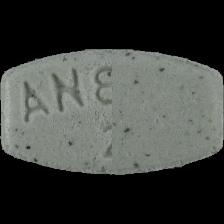65162-896: (0, 0, 224, 224)
